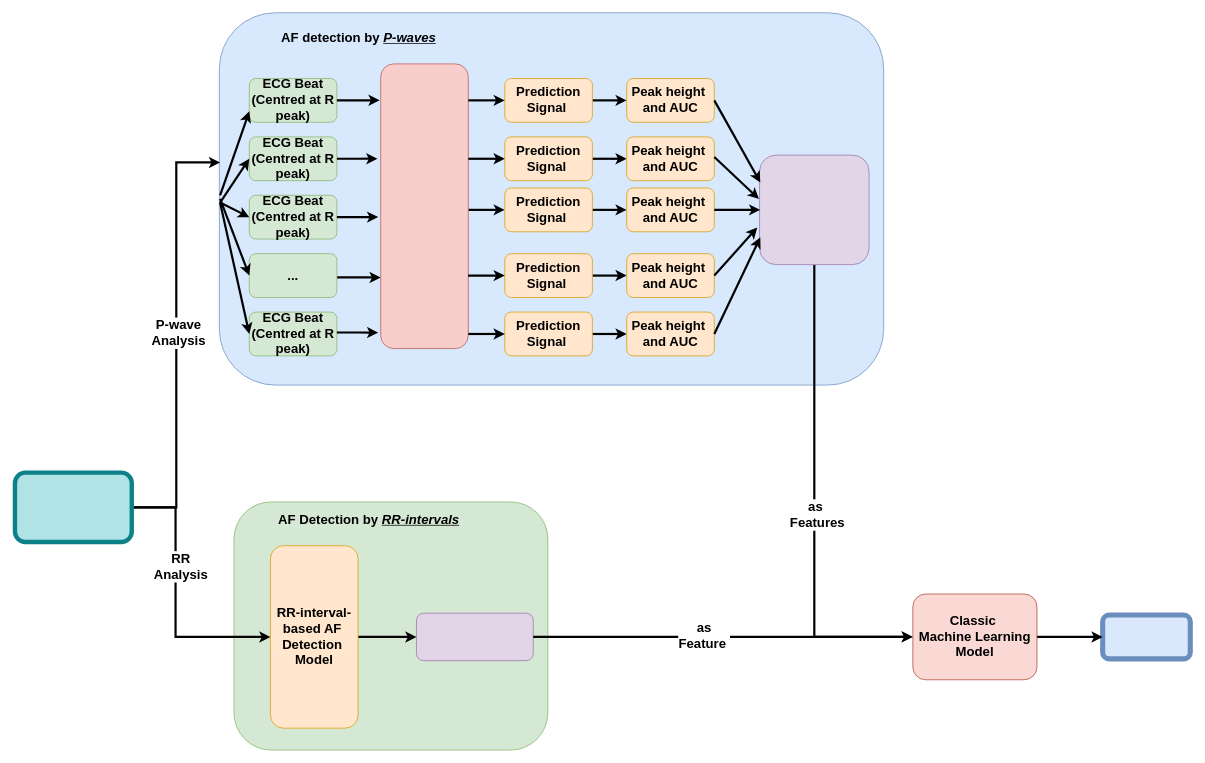
Some shapes in this 1205 by 763 pixel diagram are drawn without their labels. Here are the shapes that lost their labels. From the top down, the centre of each, then its label:
At (x=424, y=206): "P-wave Detection Model".
At (x=814, y=209): "Statistical and Threshold-based features".
At (x=73, y=507): "ECG Segment (30s)".
At (x=474, y=636): "Probability of AF by RR intervals".
At (x=1146, y=636): "AF / non-AF".
